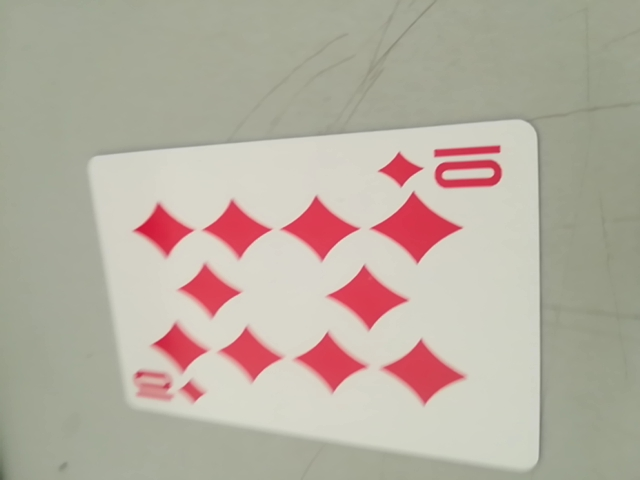fk 10: (379, 136, 513, 197), (128, 362, 213, 412)
